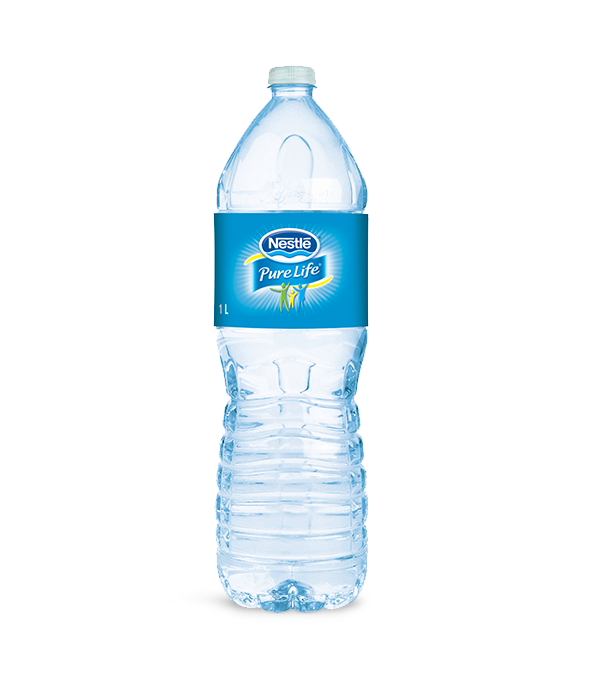HDPE: (267, 67, 315, 84)
PET: (213, 87, 368, 611)
